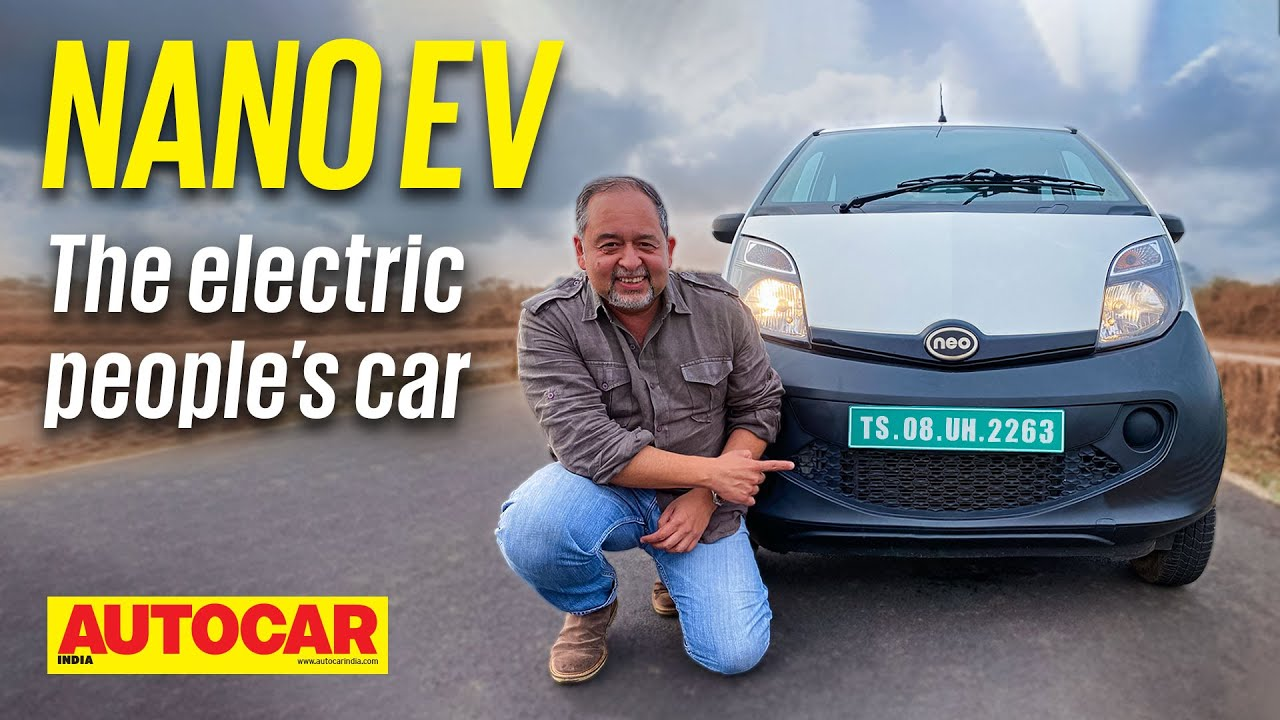Nano: (729, 115, 1229, 600)
